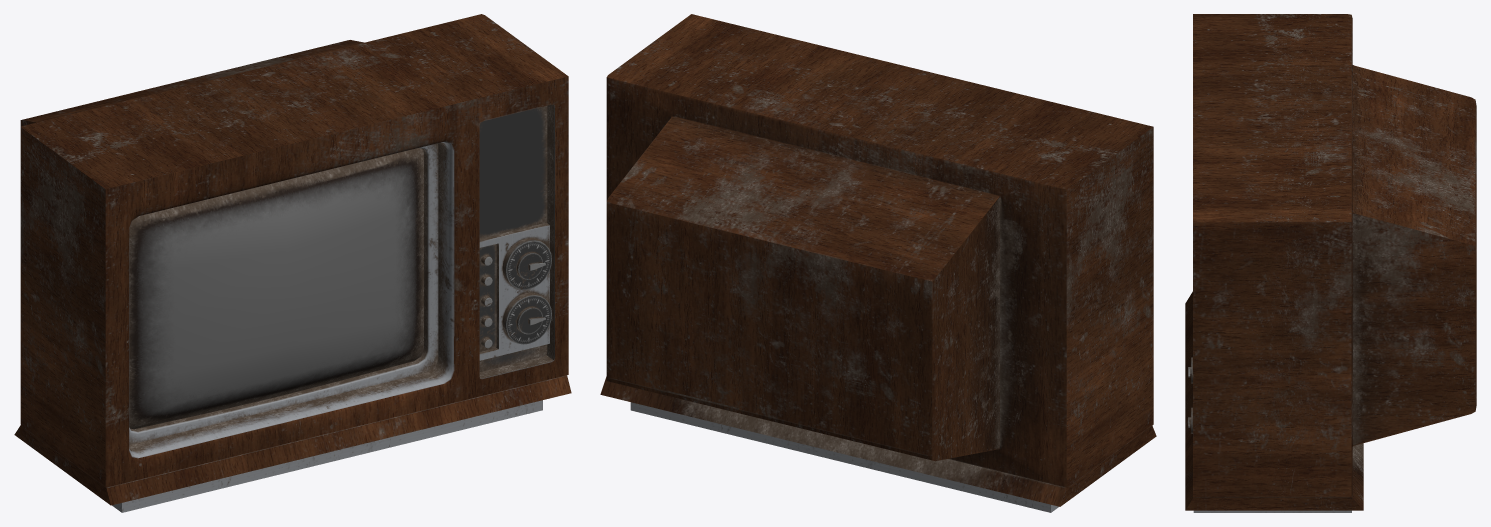
Rendered from Television2.fbx.
3 views of the same model, side by side, from view 1: azimuth 30°, elevation 25°; view 2: azimuth 150°, elevation 25°; view 3: azimuth 270°, elevation 25° (orthographic). The views are drawn at different scales.
Parts seen in each view (by area): view 1: TV, TV.001; view 2: TV; view 3: TV.
Boxes of the visible parts, x1,y1,x2,y2 form: TV: (14,14,571,512); TV.001: (129,148,423,429); TV: (600,14,1156,512); TV: (1185,14,1476,512).
Size of the model in its own units: 31.64 by 21.42 by 18.7.
Materials: 1 (1 with a texture image).
